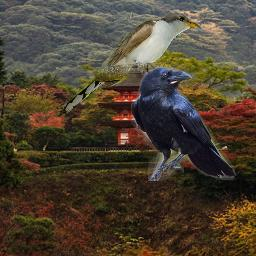Crow: (131, 66, 237, 181)
Cuckoo: (60, 11, 204, 115)
